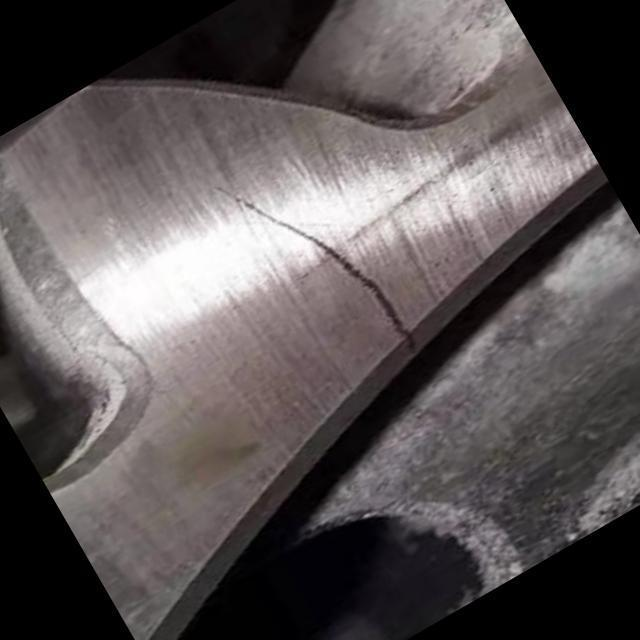defect: (202, 179, 420, 355)
